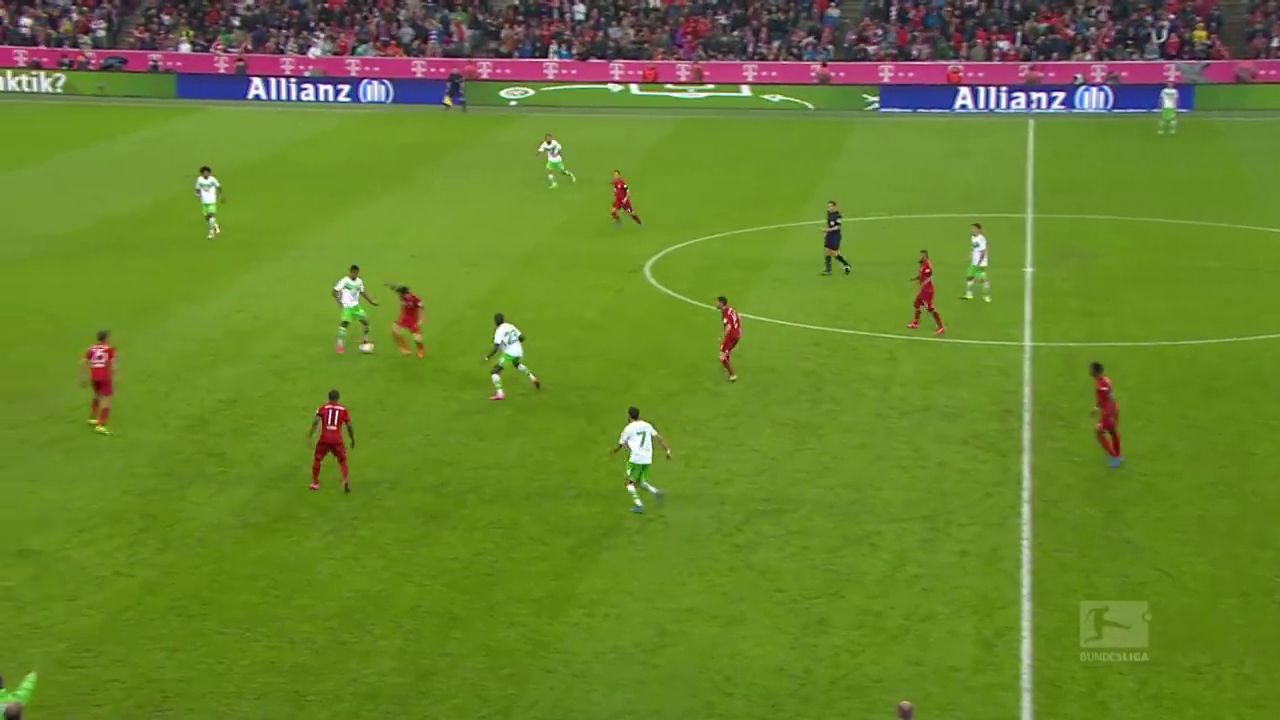ball: (358, 337, 378, 359)
player: (604, 403, 676, 518), (477, 309, 547, 402), (303, 387, 358, 495), (78, 326, 128, 436), (1086, 357, 1129, 471), (330, 263, 379, 356), (709, 292, 753, 388), (387, 281, 433, 363), (911, 247, 947, 340), (963, 220, 1000, 302), (193, 162, 229, 238), (532, 132, 578, 190), (603, 165, 644, 229), (819, 197, 851, 276), (1154, 82, 1180, 139)
